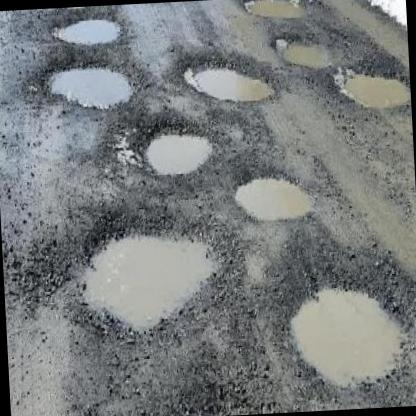pothole: (66, 209, 232, 342), (278, 270, 410, 394), (40, 49, 142, 114), (176, 44, 277, 107), (227, 164, 313, 224), (138, 116, 214, 178), (334, 61, 410, 112), (46, 10, 124, 46), (276, 33, 339, 71), (238, 0, 308, 23)
